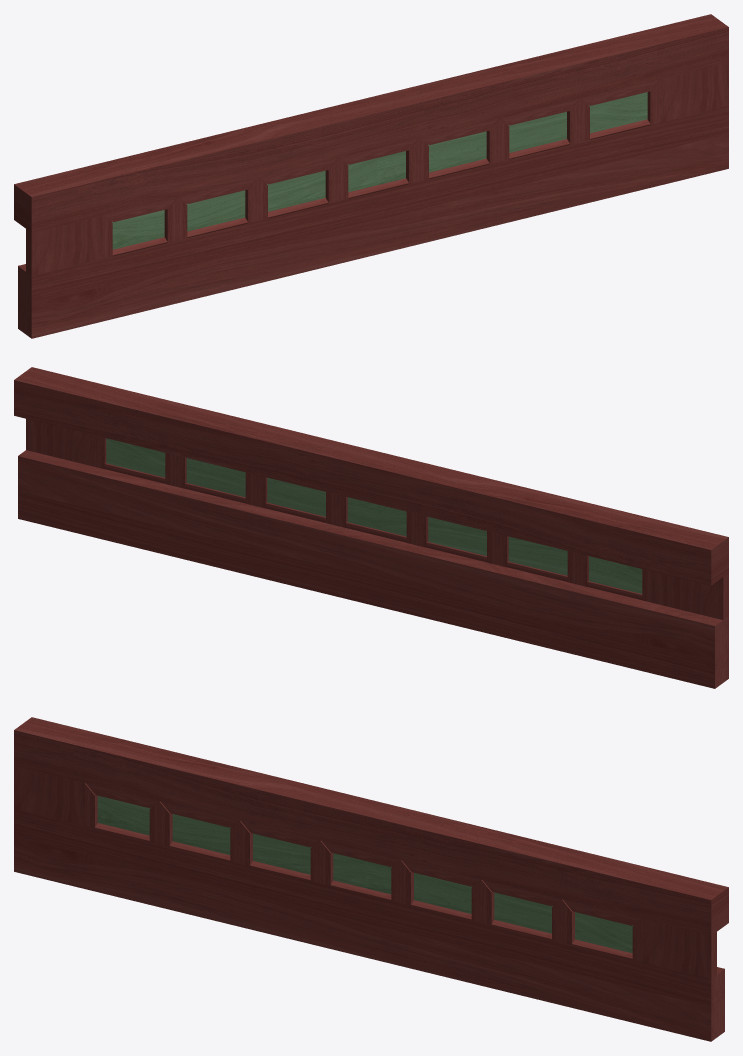
The model's file is SM_SJJ_HG_Panelboard01B.fbx.
The picture shows the model from 3 angles, top to bottom: view 1: azimuth 30°, elevation 25°; view 2: azimuth 150°, elevation 25°; view 3: azimuth 330°, elevation 25°; orthographic projection.
Parts seen in each view (by area): view 1: SM_SJJ_HG_Panelboard01B; view 2: SM_SJJ_HG_Panelboard01B; view 3: SM_SJJ_HG_Panelboard01B.
Boxes of the visible parts, box(x1,y1,x2,y2) form: SM_SJJ_HG_Panelboard01B: box(14, 14, 728, 338); SM_SJJ_HG_Panelboard01B: box(14, 367, 728, 688); SM_SJJ_HG_Panelboard01B: box(14, 717, 728, 1041).
Size of the model in its own units: 242 by 10.75 by 47.06.
Materials: 1 (1 with a texture image).
